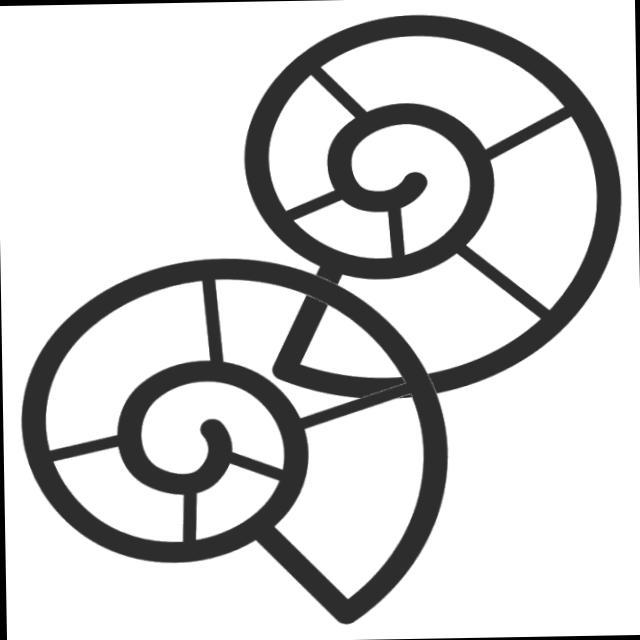fossil: (10, 248, 465, 634), (215, 6, 631, 413)
